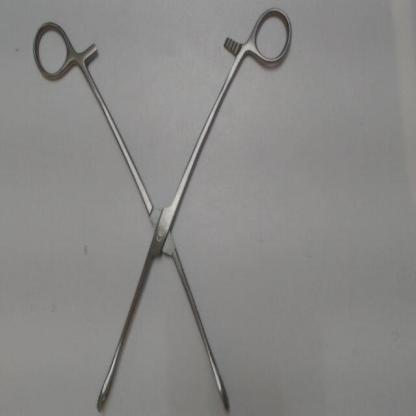Sponge Forceps: (24, 2, 298, 413)
